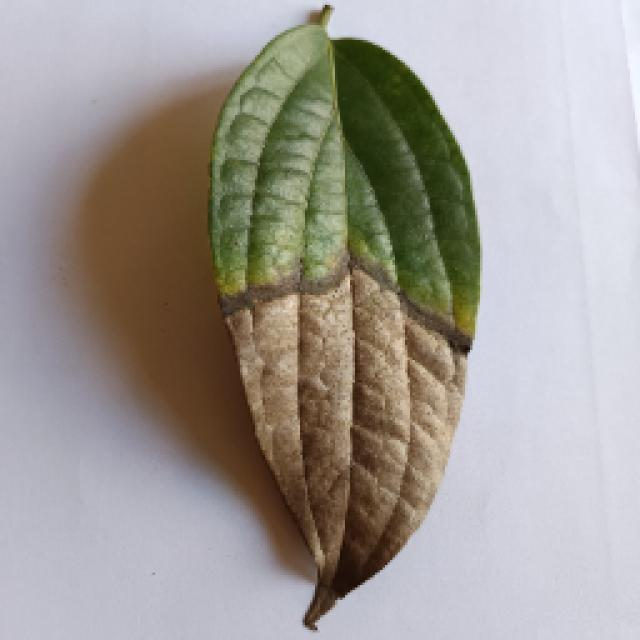footrot: (205, 10, 483, 628)
